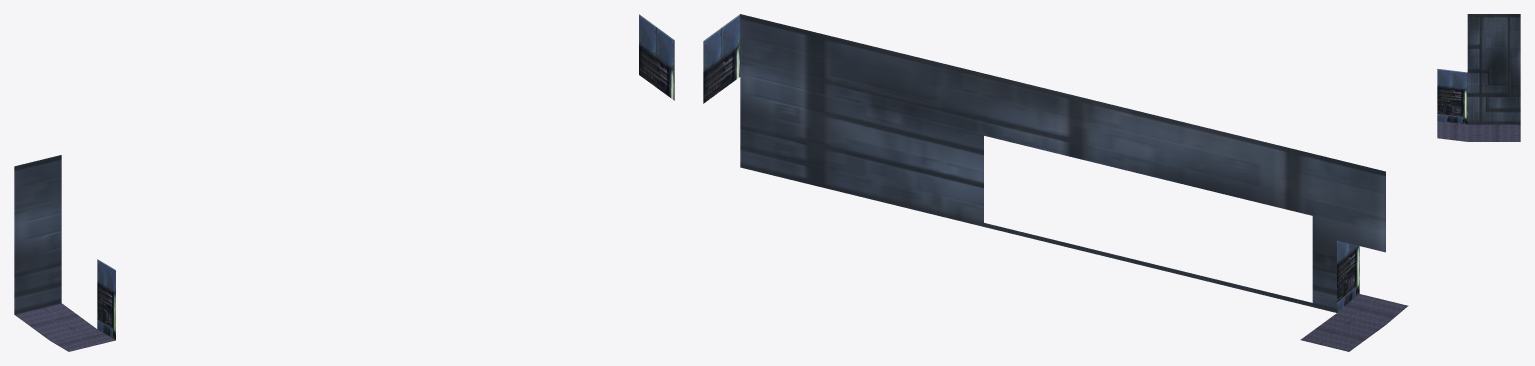
The model's file is lasthallway.glb.
3 renders of one model, left to right at view 1: azimuth 30°, elevation 25°; view 2: azimuth 150°, elevation 25°; view 3: azimuth 270°, elevation 25°, orthographic. The views are drawn at different scales.
Visible parts, largest first — view 1: lasthallway; view 2: lasthallway; view 3: lasthallway.
Part boxes in pixels (x1,y1,x2,y2): lasthallway: (14,14,674,351); lasthallway: (703,14,1408,351); lasthallway: (1437,14,1520,141).
Bounding box in the file's own units: 5466 × 1238 × 845.
4 materials, 4 textured.
